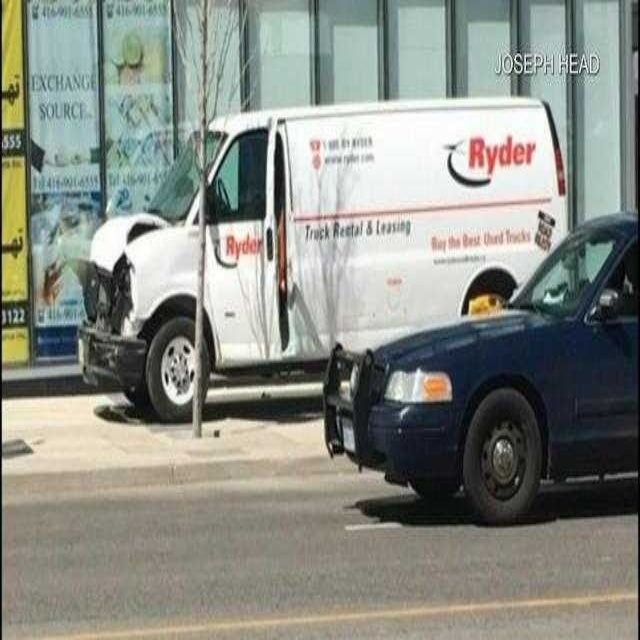Car: (323, 210, 640, 528)
Van: (79, 92, 568, 423)
